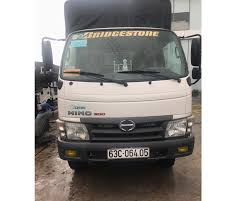Bien-so: (108, 148, 150, 158)
